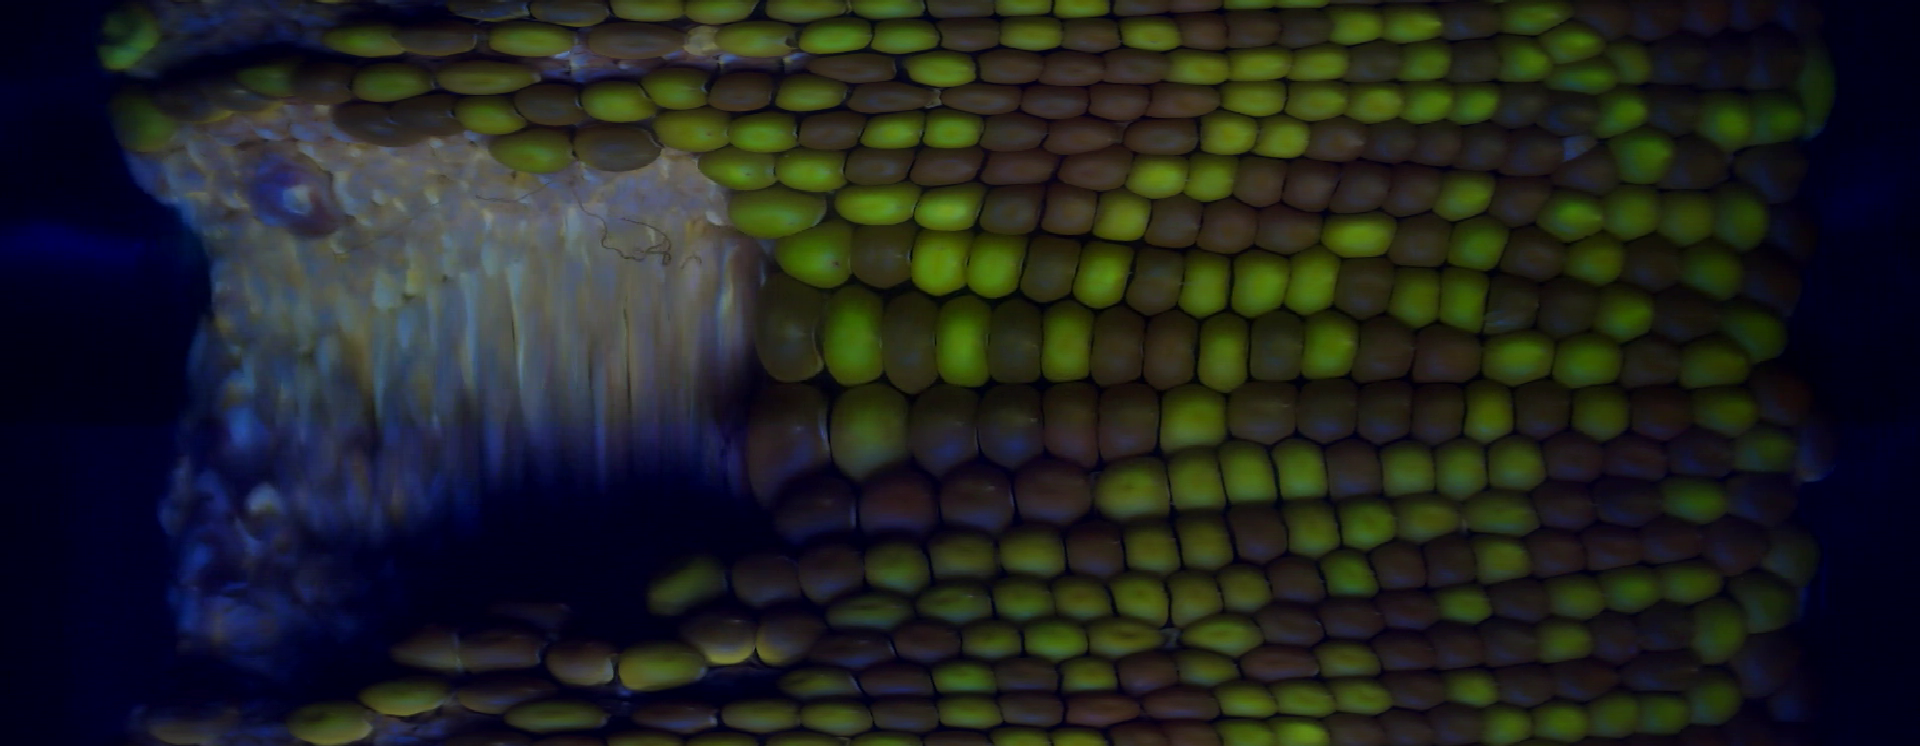fluorescent: (829, 390, 909, 469), (820, 294, 879, 382), (645, 552, 724, 619), (779, 223, 851, 292), (1544, 336, 1629, 391), (1480, 428, 1550, 494), (1153, 382, 1228, 442), (940, 295, 987, 390), (579, 72, 658, 127), (889, 39, 973, 89), (1095, 459, 1167, 517), (1212, 440, 1276, 505), (722, 191, 827, 230), (964, 233, 1029, 295), (1727, 295, 1791, 358), (612, 647, 709, 688), (358, 673, 448, 717), (1167, 450, 1226, 516), (1567, 383, 1633, 440), (1700, 584, 1750, 658), (1177, 247, 1229, 317), (910, 229, 966, 294), (429, 62, 531, 98), (506, 695, 600, 733), (1090, 611, 1168, 657), (99, 10, 157, 71), (1044, 305, 1092, 379), (1315, 543, 1379, 598), (1799, 49, 1838, 138), (1455, 387, 1513, 446), (1234, 256, 1289, 318), (1305, 316, 1360, 379), (1318, 213, 1393, 258), (103, 97, 163, 153), (867, 548, 939, 594), (1596, 37, 1660, 88), (315, 23, 405, 59), (722, 18, 800, 60), (1718, 197, 1773, 255), (693, 152, 771, 192), (835, 187, 916, 227), (1003, 537, 1084, 576), (487, 134, 571, 171), (779, 147, 845, 195), (1370, 440, 1431, 491), (1474, 530, 1538, 579), (1182, 614, 1264, 652), (1615, 130, 1671, 185), (1196, 317, 1240, 387), (653, 116, 731, 156), (1680, 345, 1753, 387), (797, 13, 868, 56), (1122, 521, 1179, 573), (915, 184, 980, 230), (1340, 76, 1404, 122), (1093, 192, 1153, 243), (1109, 571, 1171, 619), (910, 592, 989, 628), (1496, 34, 1551, 87), (1167, 568, 1222, 621), (1484, 334, 1542, 385), (1176, 523, 1239, 568), (456, 96, 525, 136), (238, 53, 296, 100), (350, 62, 429, 98), (1389, 273, 1438, 330), (1664, 477, 1727, 521), (487, 24, 573, 56), (987, 578, 1051, 621), (1678, 254, 1742, 295), (1431, 171, 1487, 220), (291, 706, 362, 744), (1750, 572, 1798, 628), (648, 65, 705, 111), (831, 597, 912, 630), (1453, 218, 1505, 269), (1276, 447, 1322, 503), (1438, 445, 1484, 501), (800, 695, 871, 731), (731, 114, 793, 156), (1607, 191, 1657, 243), (1348, 497, 1400, 548), (719, 699, 800, 731), (1287, 78, 1347, 121), (1439, 271, 1482, 331), (924, 105, 980, 152), (1113, 16, 1183, 53), (871, 21, 938, 59), (1658, 201, 1719, 243), (1311, 639, 1382, 675), (1184, 156, 1236, 205), (1745, 108, 1800, 153), (1224, 50, 1297, 85), (1084, 240, 1120, 307), (1021, 620, 1089, 657), (1697, 676, 1750, 723), (774, 665, 857, 695), (1400, 82, 1453, 127), (1599, 288, 1644, 342), (1764, 530, 1815, 578), (1198, 116, 1255, 158), (1289, 250, 1331, 307), (1498, 1, 1570, 34), (1276, 708, 1338, 746), (1280, 681, 1340, 720), (1638, 691, 1692, 734), (1700, 100, 1741, 156), (1255, 118, 1311, 158), (1220, 87, 1286, 121), (861, 111, 924, 147), (1400, 501, 1463, 537), (1592, 91, 1644, 134), (1467, 500, 1540, 530), (1608, 572, 1664, 611), (966, 620, 1026, 657), (1562, 243, 1629, 276), (1693, 391, 1751, 429), (1218, 681, 1280, 717), (610, 1, 687, 29), (1131, 156, 1187, 195), (1386, 10, 1445, 47), (1176, 652, 1231, 691), (1000, 18, 1068, 50), (1554, 578, 1610, 616), (1292, 508, 1344, 549), (947, 530, 1000, 570), (1545, 17, 1600, 55), (1056, 653, 1113, 688), (1341, 679, 1400, 713), (1663, 565, 1716, 601), (1739, 432, 1787, 473), (684, 1, 752, 29), (1539, 208, 1600, 239), (1220, 568, 1267, 608), (1218, 717, 1281, 746), (774, 78, 831, 110), (1291, 47, 1348, 78), (1174, 51, 1228, 85), (936, 661, 996, 691), (1453, 82, 1495, 124), (764, 1, 849, 21), (1411, 47, 1451, 87), (1584, 708, 1638, 737), (1545, 698, 1584, 739), (938, 695, 997, 722), (1056, 590, 1103, 624), (1489, 710, 1542, 740), (1445, 582, 1482, 624), (1331, 9, 1374, 42), (1558, 69, 1613, 94), (1537, 624, 1583, 653), (855, 1, 926, 20), (1044, 726, 1097, 746), (987, 729, 1047, 746), (1451, 681, 1499, 702)
nonfluorescent: (152, 657, 231, 746), (747, 388, 820, 478), (763, 279, 827, 379), (244, 158, 328, 229), (928, 462, 1015, 530), (973, 387, 1047, 468), (855, 462, 926, 540), (1138, 307, 1199, 394), (880, 296, 934, 392), (1015, 468, 1097, 530), (1231, 376, 1300, 443), (1237, 304, 1296, 381), (1022, 230, 1082, 305), (149, 69, 225, 126), (920, 383, 973, 461), (1753, 360, 1812, 429), (992, 300, 1040, 383), (628, 685, 713, 731), (1048, 379, 1096, 461), (1100, 388, 1155, 459), (1311, 442, 1382, 497), (782, 475, 851, 530), (576, 122, 658, 168), (1537, 92, 1609, 142), (467, 624, 541, 671), (1228, 502, 1287, 562), (1092, 304, 1135, 385), (512, 76, 584, 124), (1656, 288, 1718, 343), (1237, 646, 1329, 682), (1526, 478, 1589, 530), (1411, 326, 1477, 376), (193, 62, 255, 116), (853, 229, 909, 288), (1356, 379, 1408, 440), (804, 620, 889, 658), (1251, 205, 1318, 252), (329, 96, 403, 138), (893, 610, 955, 660), (583, 20, 677, 53), (1728, 473, 1793, 521), (1144, 685, 1224, 723), (1616, 334, 1679, 383), (1509, 382, 1571, 431), (557, 639, 620, 688), (1584, 516, 1640, 571), (1349, 333, 1411, 382), (1480, 614, 1534, 669), (1300, 385, 1357, 437), (1544, 278, 1596, 336), (1502, 134, 1562, 183), (1011, 85, 1086, 124), (1141, 250, 1189, 311), (1232, 152, 1284, 207), (1411, 394, 1468, 445), (1596, 478, 1663, 521), (1642, 518, 1706, 563), (858, 692, 937, 729), (909, 147, 980, 187), (977, 185, 1038, 232), (1741, 147, 1795, 200), (1742, 249, 1790, 307), (1261, 608, 1332, 647), (1658, 136, 1719, 181), (733, 549, 795, 594), (1370, 543, 1428, 590), (1625, 387, 1686, 431), (1064, 524, 1120, 572), (708, 78, 776, 118), (1444, 7, 1506, 50), (1499, 661, 1558, 707), (451, 677, 545, 706), (1668, 430, 1724, 477), (996, 688, 1064, 726), (1771, 676, 1820, 729), (1626, 236, 1682, 282), (1125, 649, 1182, 695), (989, 653, 1060, 688), (1498, 175, 1548, 225), (1338, 260, 1389, 310), (797, 58, 905, 81), (1373, 633, 1442, 669), (1524, 534, 1589, 572), (1703, 43, 1755, 91), (1496, 271, 1538, 330), (1538, 437, 1597, 479), (1560, 661, 1629, 697), (400, 24, 470, 59), (803, 545, 857, 589), (1267, 560, 1321, 604), (1428, 704, 1490, 742), (1387, 224, 1444, 266), (298, 62, 344, 113), (1629, 1, 1686, 42), (1040, 192, 1092, 236), (1155, 192, 1199, 245), (1420, 537, 1473, 581), (1283, 162, 1337, 205), (1641, 653, 1700, 692), (1373, 118, 1424, 162), (1382, 707, 1440, 746), (986, 116, 1053, 149), (405, 631, 460, 671), (1067, 685, 1134, 718), (1434, 617, 1480, 665), (1222, 16, 1284, 51), (1704, 529, 1764, 566), (1376, 590, 1428, 633), (1509, 229, 1561, 271), (863, 653, 934, 684), (1447, 43, 1495, 88), (1589, 614, 1635, 661), (1338, 160, 1382, 209), (1129, 124, 1196, 156), (944, 85, 1011, 116), (1103, 710, 1163, 746), (1382, 171, 1431, 214), (1199, 209, 1248, 252), (1487, 579, 1542, 617), (1086, 91, 1151, 122), (1767, 1, 1820, 40), (796, 110, 857, 143), (1744, 630, 1780, 685), (1321, 598, 1376, 635), (1753, 36, 1793, 87), (1771, 205, 1810, 256), (1637, 605, 1686, 646), (1321, 120, 1370, 160), (1567, 149, 1618, 189), (1344, 43, 1400, 78), (980, 149, 1048, 178), (1171, 13, 1221, 51), (850, 145, 905, 179), (1651, 88, 1696, 130), (1673, 1, 1731, 33), (1466, 126, 1510, 168), (1109, 53, 1167, 85), (1654, 36, 1700, 76), (1060, 160, 1125, 189), (399, 102, 451, 137), (1609, 436, 1660, 472), (1053, 122, 1120, 149), (850, 85, 932, 107), (524, 2, 600, 26), (454, 1, 522, 27), (1425, 124, 1464, 168), (1064, 18, 1119, 49), (1329, 710, 1375, 746), (1044, 60, 1100, 88), (1382, 671, 1439, 698), (1150, 88, 1209, 114), (1502, 85, 1548, 118), (937, 29, 1003, 51), (1276, 11, 1325, 40), (1727, 5, 1766, 39), (980, 55, 1042, 76), (924, 1, 997, 18), (1584, 4, 1625, 34), (1160, 724, 1207, 746)
